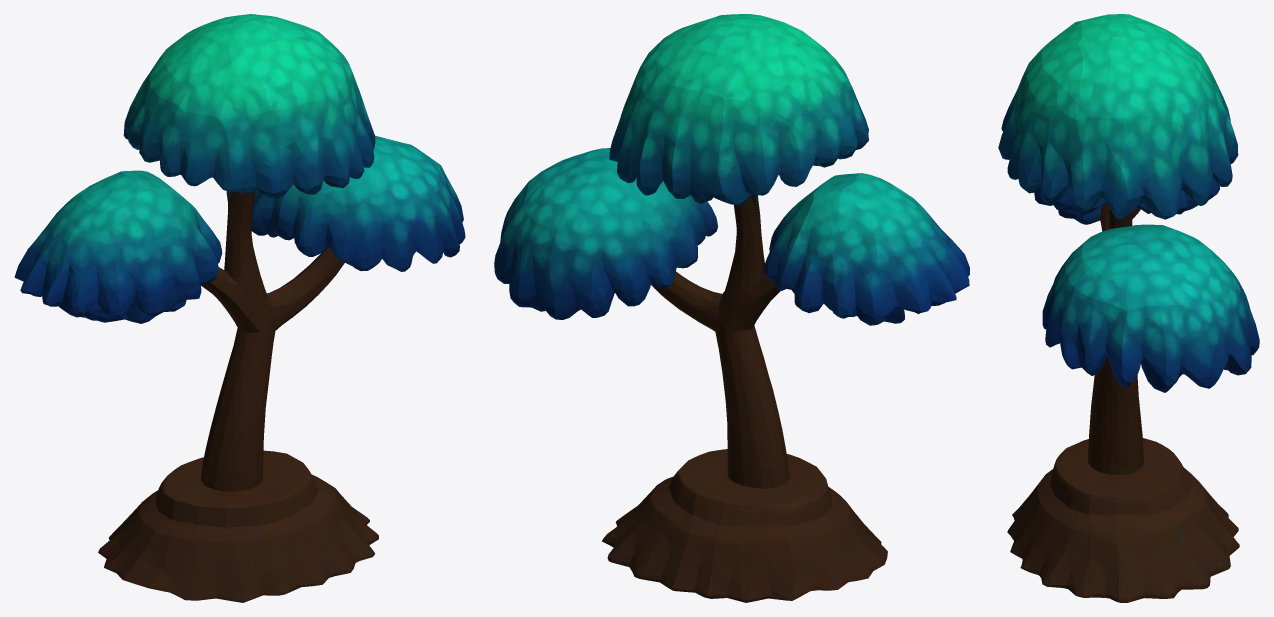
Rendered from familiarity_tree-2copy.glb.
3 views of the same model, side by side, from view 1: azimuth 30°, elevation 25°; view 2: azimuth 150°, elevation 25°; view 3: azimuth 270°, elevation 25° (orthographic).
Parts seen in each view (by area): view 1: world.001; view 2: world.001; view 3: world.001.
Part boxes in pixels (<box>): world.001: <box>14,14,465,602</box>; world.001: <box>494,14,969,602</box>; world.001: <box>998,14,1259,602</box>.
Size of the model in its own units: 0.8658 by 0.9977 by 0.4548.
Materials: 1 (1 with a texture image).
